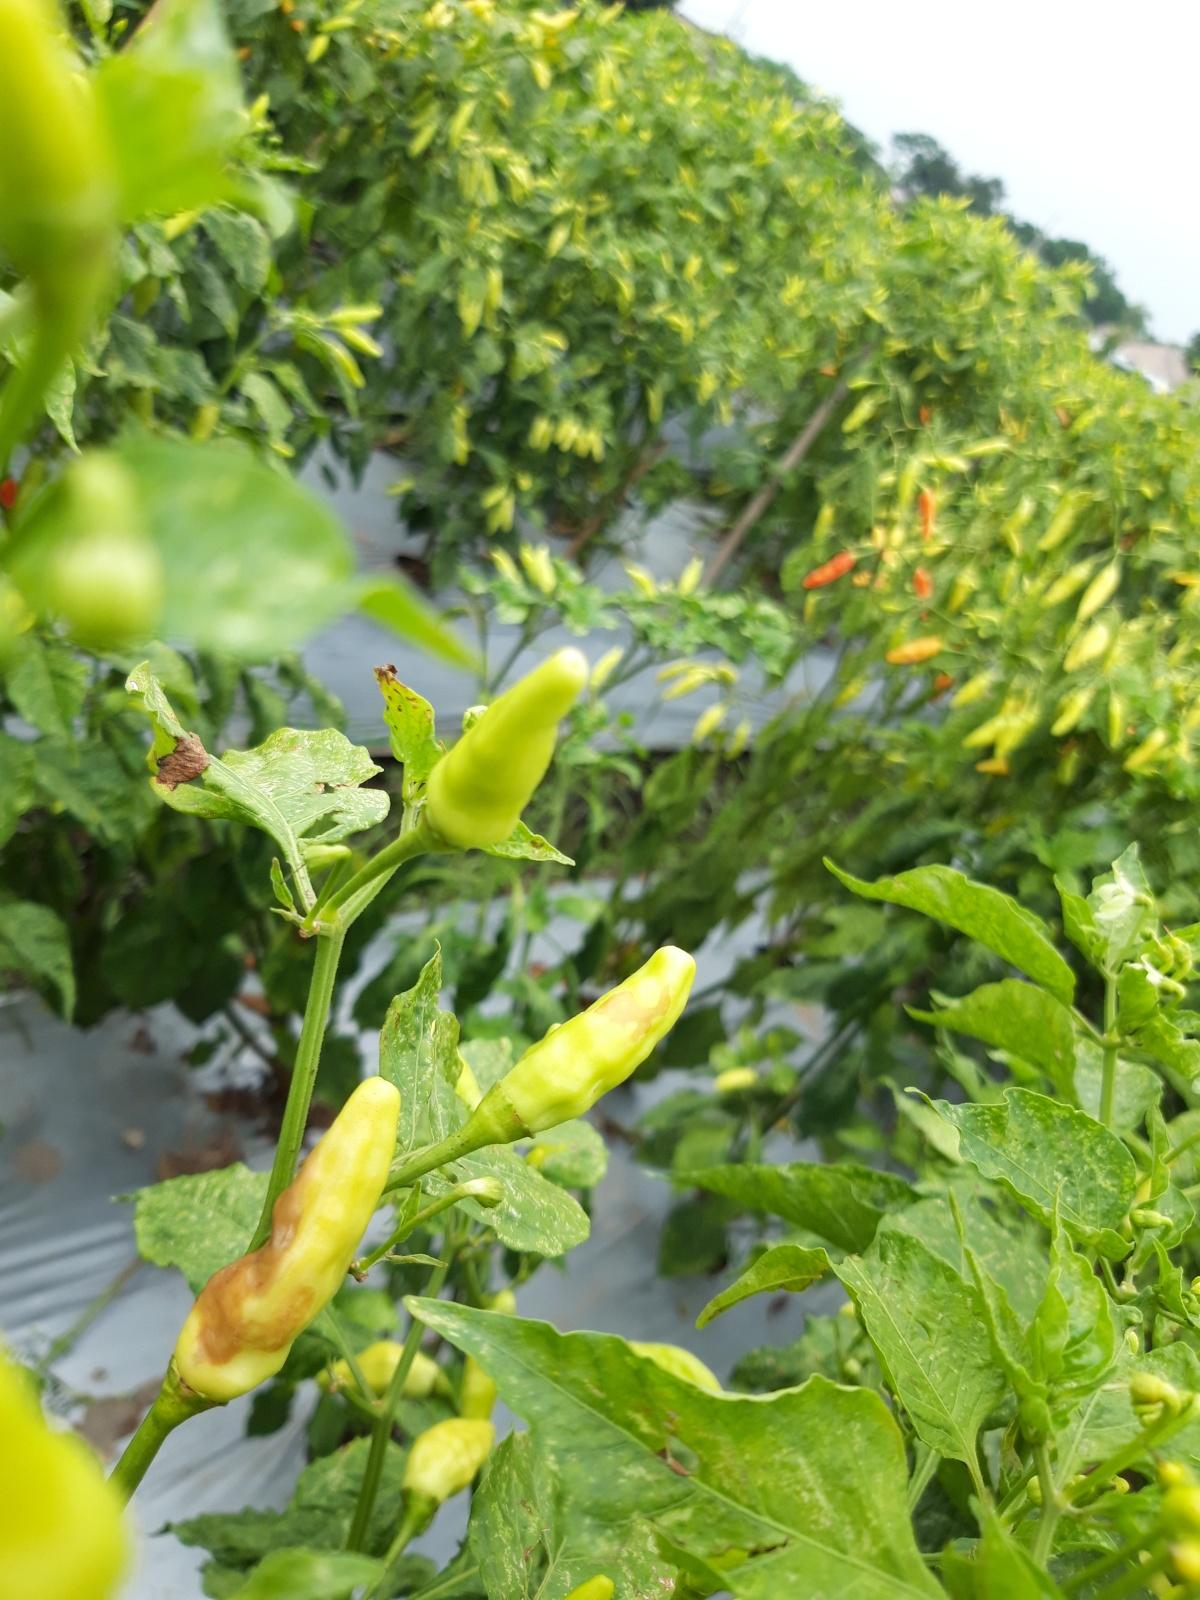cabai_normal: (490, 945, 697, 1141), (424, 644, 590, 858), (1075, 562, 1121, 621), (799, 549, 858, 590), (1050, 690, 1093, 740), (328, 341, 366, 388), (886, 637, 945, 665), (692, 700, 726, 742), (337, 328, 381, 359), (664, 671, 708, 700), (326, 305, 384, 325), (916, 488, 934, 538)
lalat_buah: (169, 1076, 403, 1410)
